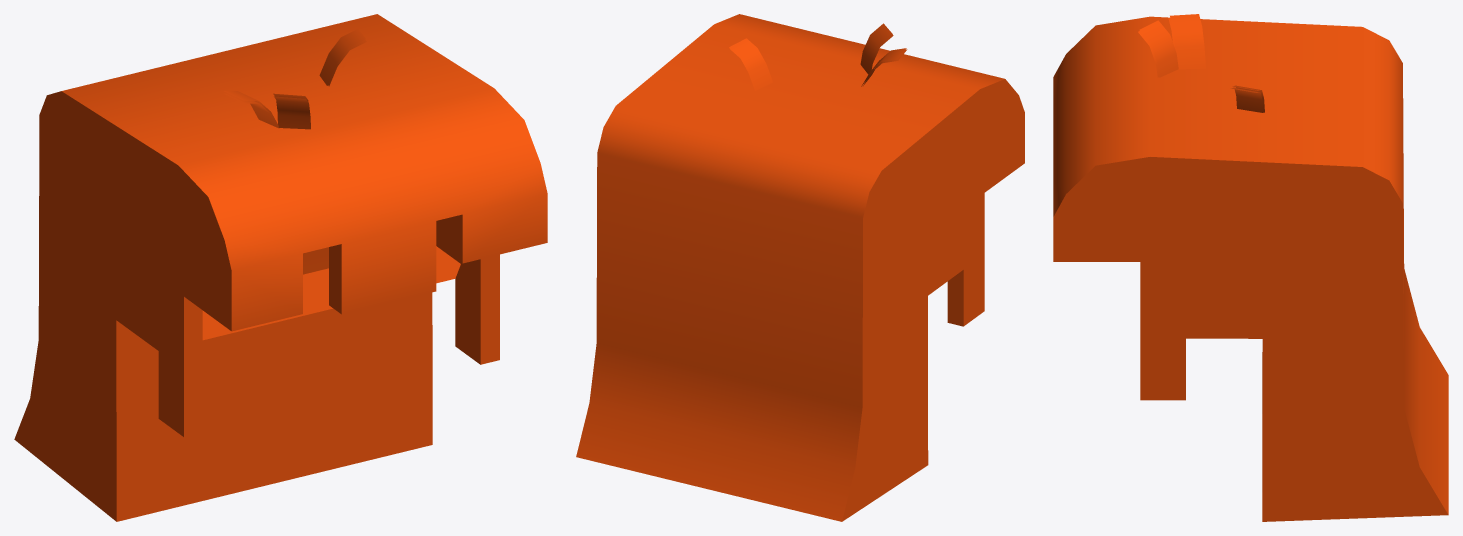
Rendered from Hair Male 04.FBX.
The picture shows the model from 3 angles, left to right: view 1: azimuth 30°, elevation 25°; view 2: azimuth 150°, elevation 25°; view 3: azimuth 270°, elevation 25°; orthographic projection. The views are drawn at different scales.
Parts seen in each view (by area): view 1: Hair Male 04; view 2: Hair Male 04; view 3: Hair Male 04.
Part boxes in pixels (left/top/right/bottom): Hair Male 04: left=14, top=14, right=547, bottom=521; Hair Male 04: left=576, top=14, right=1024, bottom=521; Hair Male 04: left=1053, top=14, right=1448, bottom=521.
Bounding box in the file's own units: 52.09 × 70.26 × 62.06.
1 material, 1 textured.
